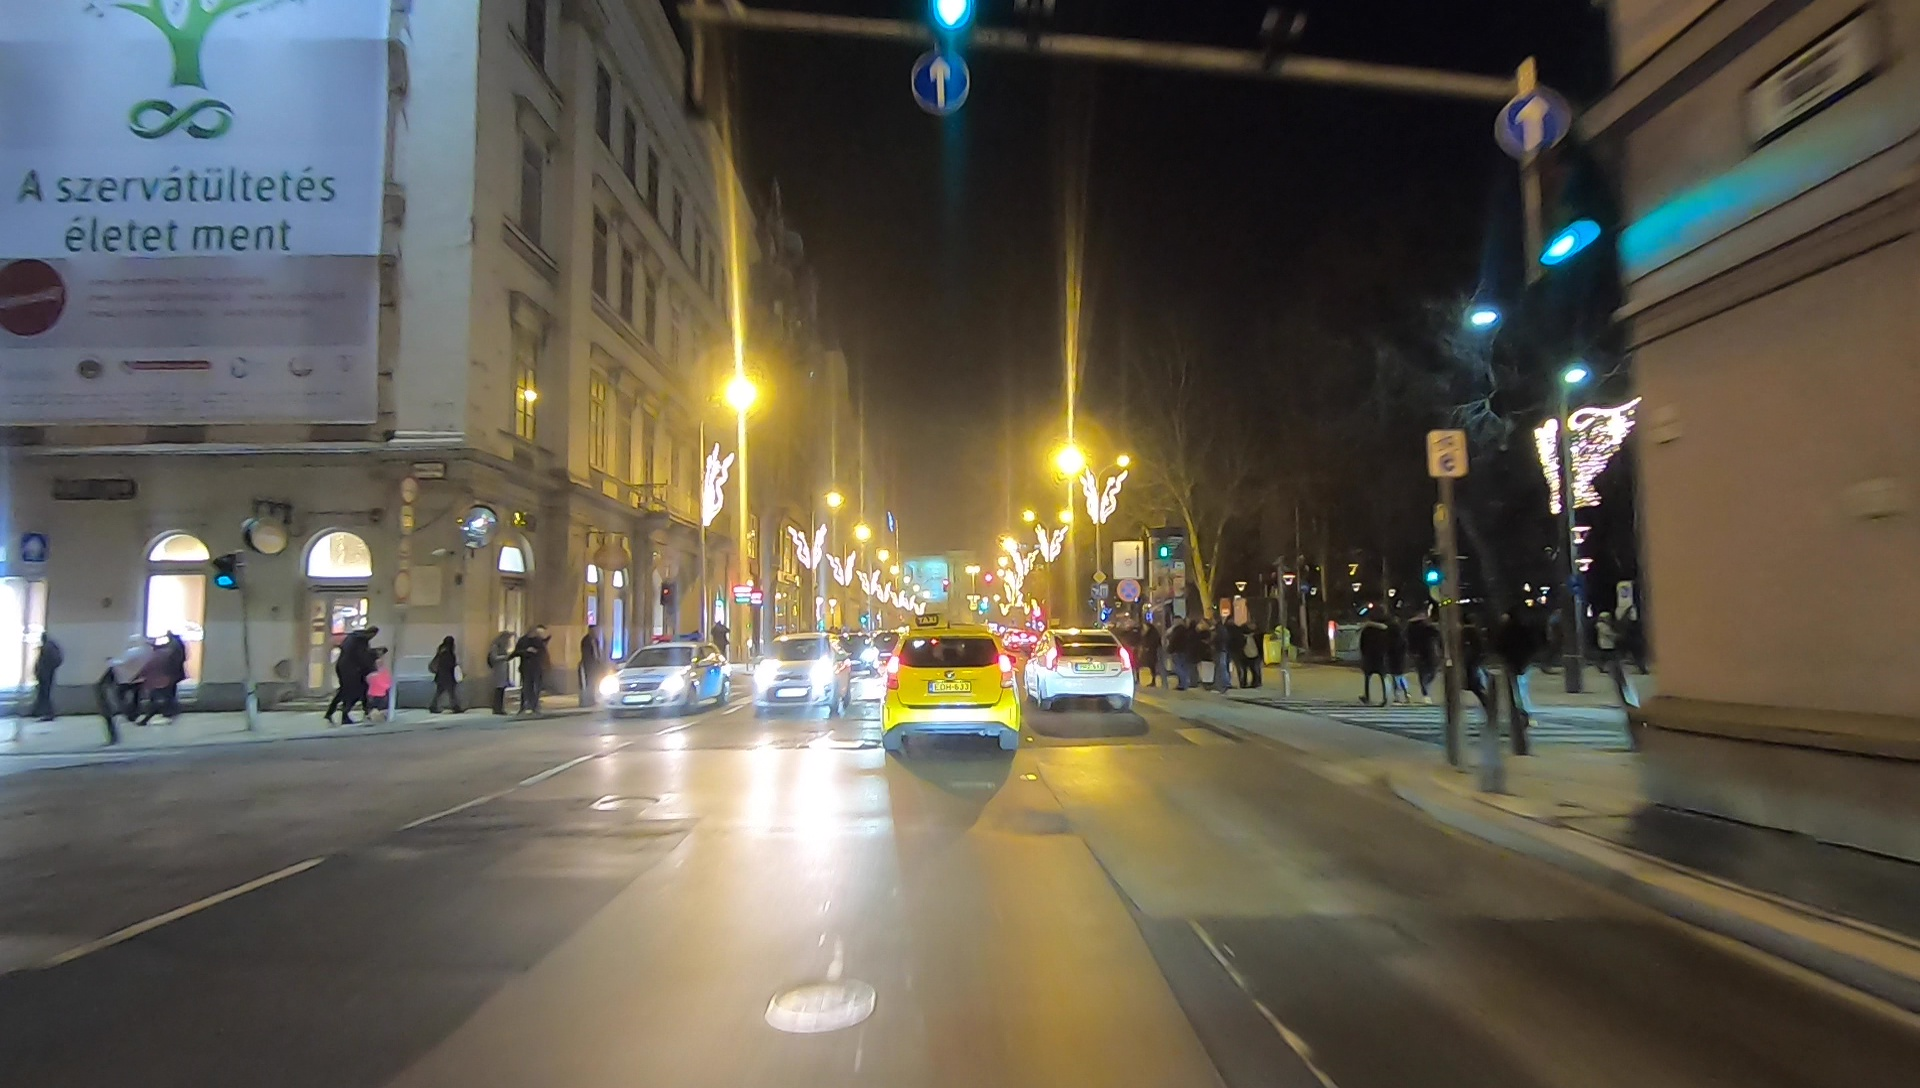person: (328, 630, 367, 726), (1406, 611, 1443, 706), (360, 643, 399, 728), (425, 637, 464, 721), (1380, 619, 1410, 719), (115, 634, 147, 721), (1358, 626, 1388, 708), (1156, 615, 1186, 699), (30, 636, 58, 723), (486, 628, 512, 713), (521, 630, 543, 717), (152, 637, 176, 717), (1191, 611, 1215, 691), (1130, 615, 1152, 697), (578, 630, 601, 702), (1238, 623, 1262, 691), (1217, 617, 1238, 689)
